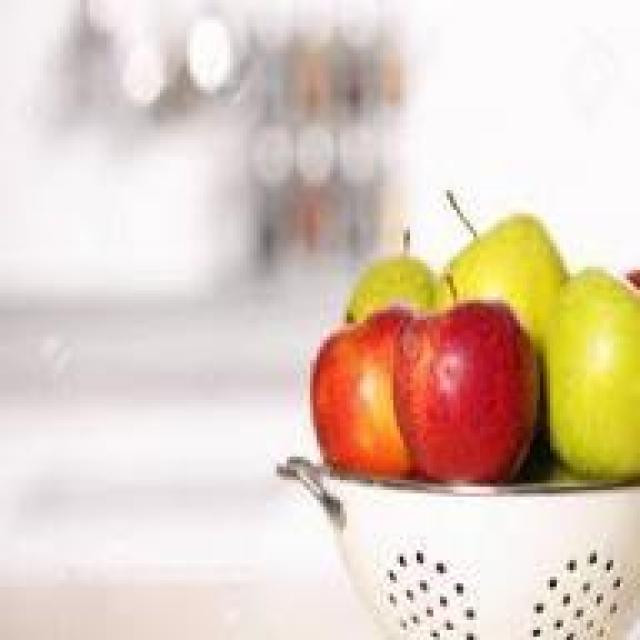apple: (393, 310, 530, 483), (300, 303, 423, 477), (550, 260, 640, 480), (440, 220, 563, 363), (346, 243, 436, 330)
